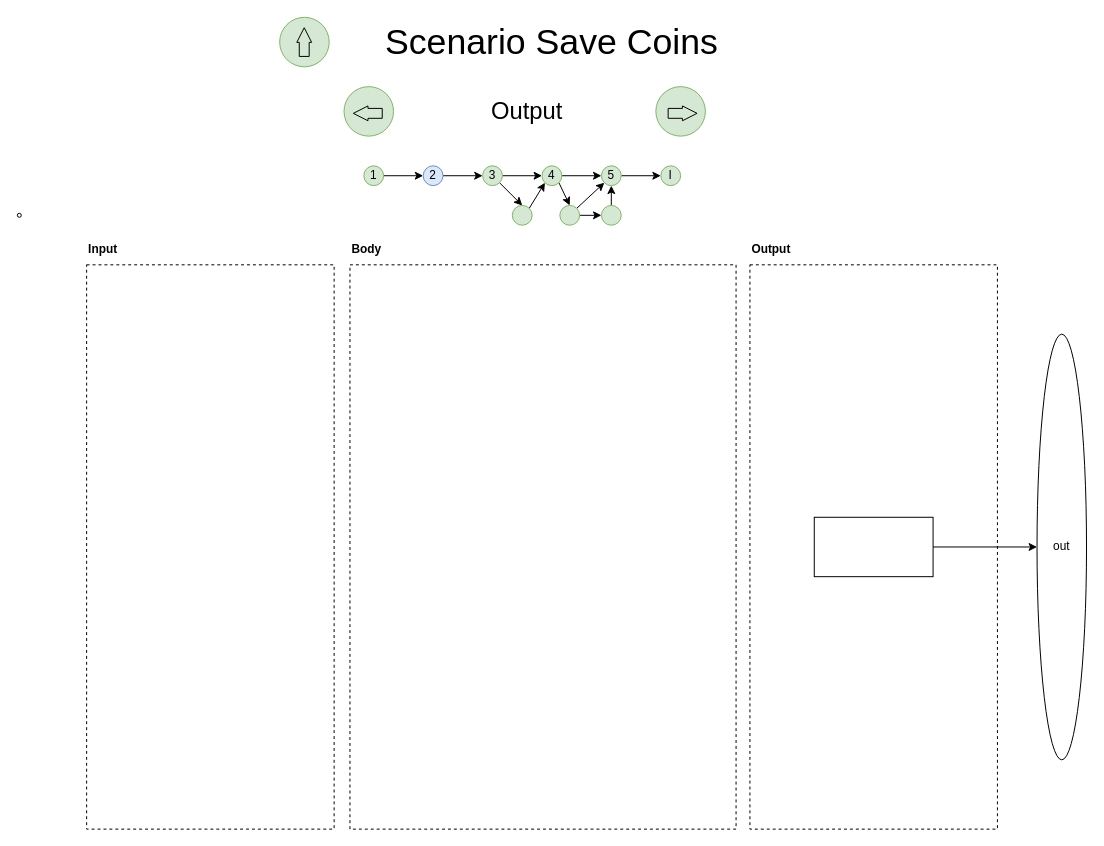
The diagram is 1104 pixels wide and 846 high, and some of its shapes have lost their labels. Each missing label, with the centre of its shape:
S1: [521,214]
S2: [610,214]
Saved coins: [873,546]
T1: [569,214]
